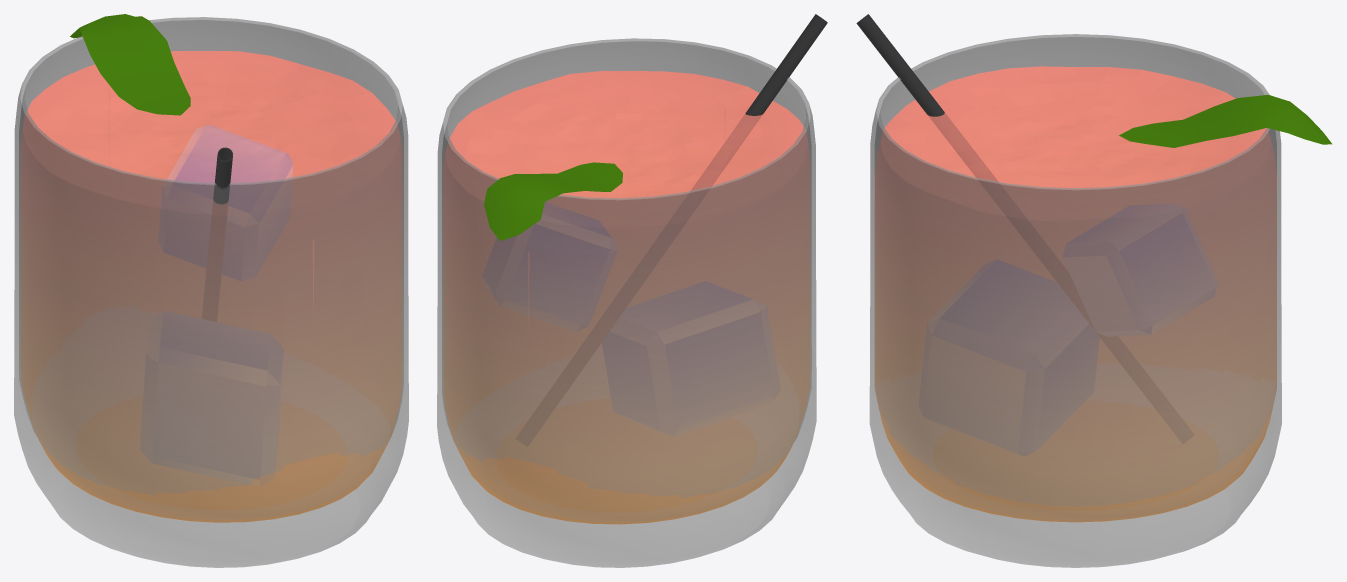
3 renders of one model, left to right at view 1: azimuth 30°, elevation 25°; view 2: azimuth 150°, elevation 25°; view 3: azimuth 270°, elevation 25°, orthographic. The views are drawn at different scales.
Visible parts, largest first — view 1: Glas, Juice, Blatt, Box001, Line001; view 2: Glas, Juice, Blatt, Line001; view 3: Glas, Juice, Blatt, Line001.
Part boxes in pixels (x1=…): Glas: x1=14, y1=17, x2=408, y2=567; Juice: x1=21, y1=51, x2=401, y2=522; Blatt: x1=70, y1=14, x2=190, y2=115; Box001: x1=168, y1=125, x2=292, y2=182; Line001: x1=213, y1=147, x2=232, y2=204; Glas: x1=437, y1=38, x2=816, y2=567; Juice: x1=444, y1=71, x2=809, y2=524; Blatt: x1=484, y1=162, x2=622, y2=240; Line001: x1=691, y1=14, x2=827, y2=190; Glas: x1=869, y1=34, x2=1281, y2=567; Juice: x1=875, y1=66, x2=1276, y2=522; Blatt: x1=1119, y1=94, x2=1332, y2=147; Line001: x1=856, y1=14, x2=997, y2=181.
Bounding box in the file's own units: 0.6283 × 0.815 × 0.7849.
Materials: 5 (4 with a texture image).
